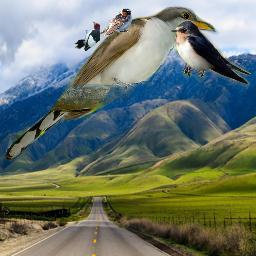Cuckoo: (1, 4, 220, 162)
Swallow: (170, 19, 251, 87), (99, 8, 132, 37)
Woodpecker: (74, 21, 100, 51)
